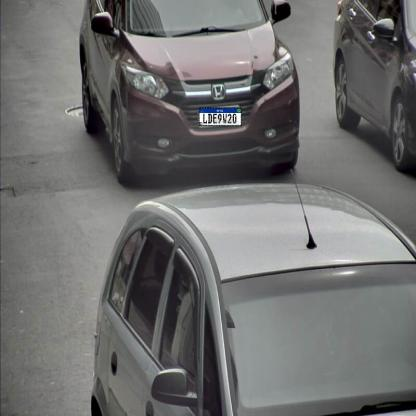PlacaM: (198, 108, 242, 126)
